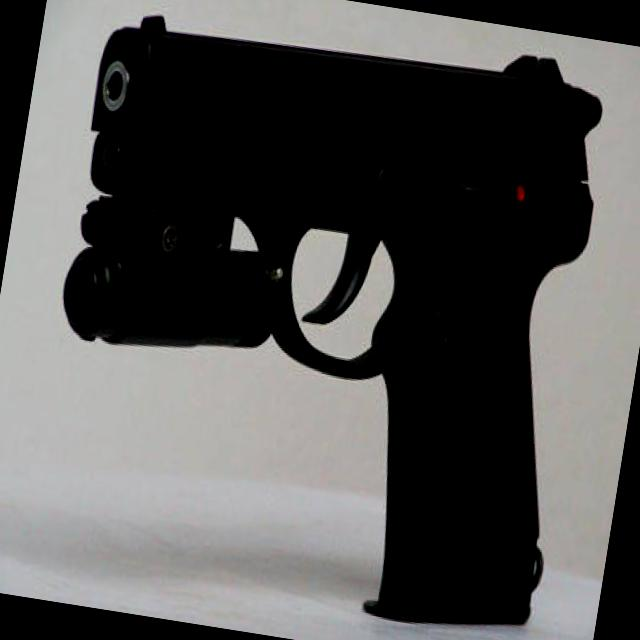handgun: (19, 0, 620, 636)
